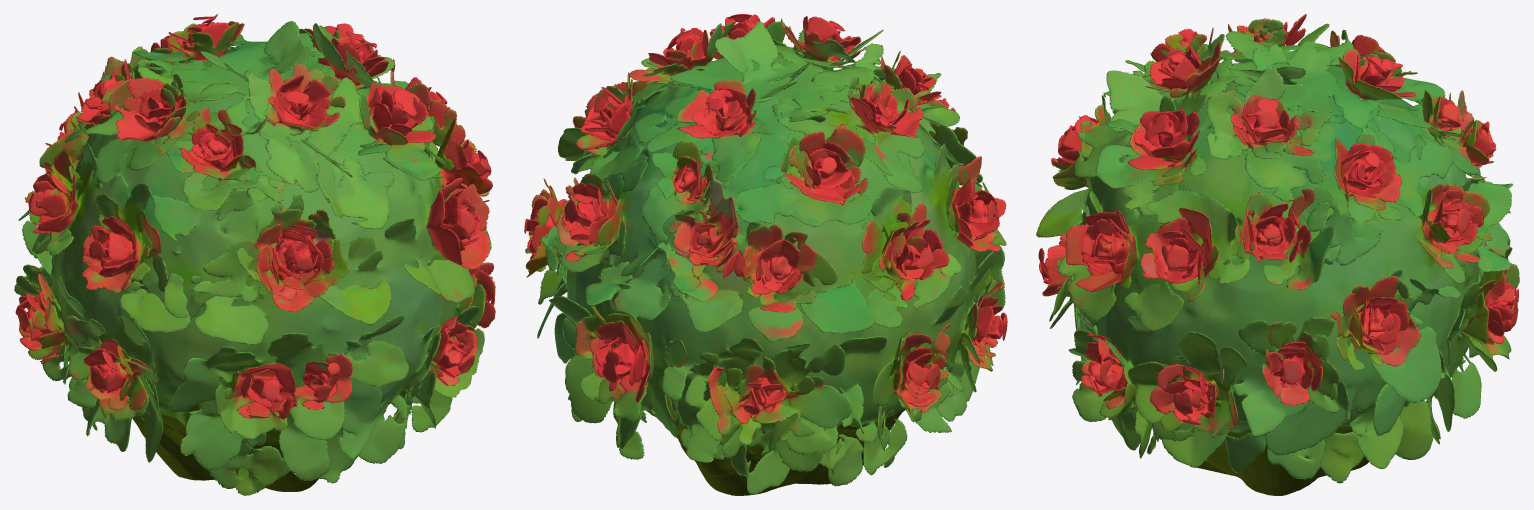
The model's file is rose_bush_red.glb.
3 views of the same model, side by side, from view 1: azimuth 30°, elevation 25°; view 2: azimuth 150°, elevation 25°; view 3: azimuth 270°, elevation 25° (orthographic).
Visible parts, largest first — view 1: tripo_node_33268122-14cc-4437-89e8-2dd805381a43; view 2: tripo_node_33268122-14cc-4437-89e8-2dd805381a43; view 3: tripo_node_33268122-14cc-4437-89e8-2dd805381a43.
Boxes of the visible parts, bbox=[...] form: tripo_node_33268122-14cc-4437-89e8-2dd805381a43: bbox=[14, 14, 495, 495]; tripo_node_33268122-14cc-4437-89e8-2dd805381a43: bbox=[524, 14, 1007, 495]; tripo_node_33268122-14cc-4437-89e8-2dd805381a43: bbox=[1036, 14, 1519, 495].
Bounding box in the file's own units: 0.9797 × 0.9584 × 0.9993.
1 material, 1 textured.
